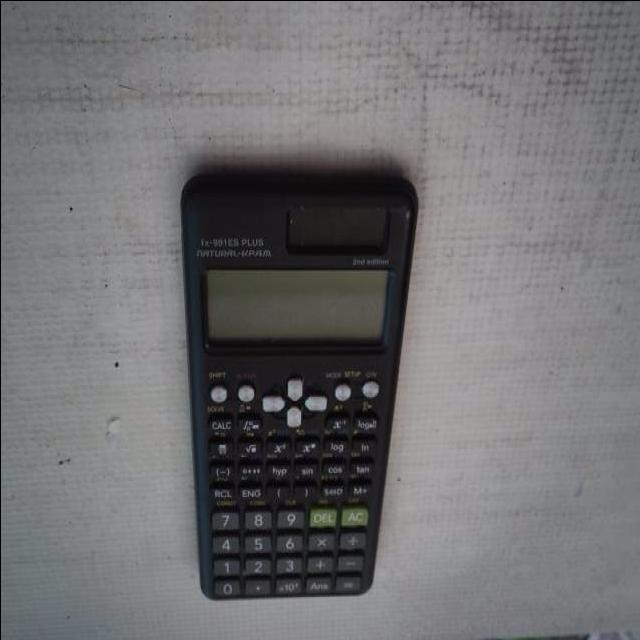Calculator: (177, 168, 420, 604)
